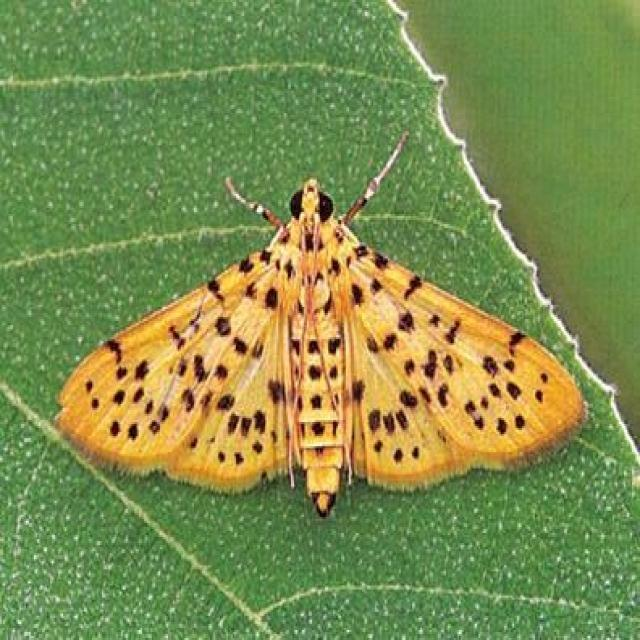peach borer: (53, 174, 589, 499)
